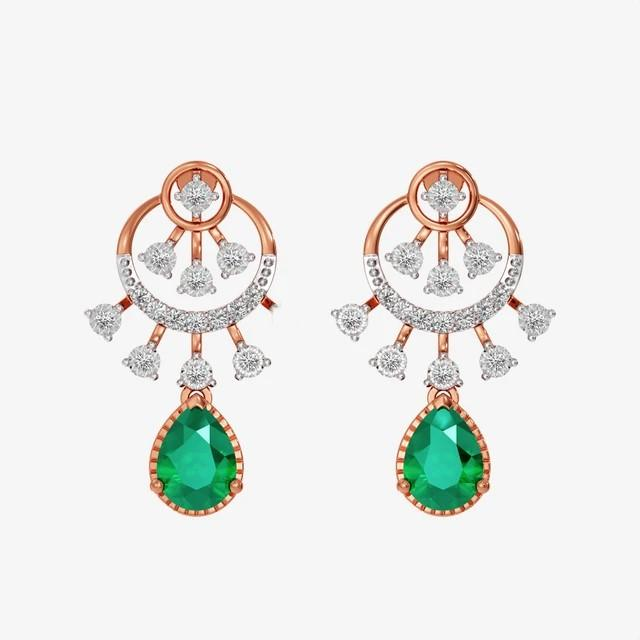missing gem: (272, 300, 308, 341)
